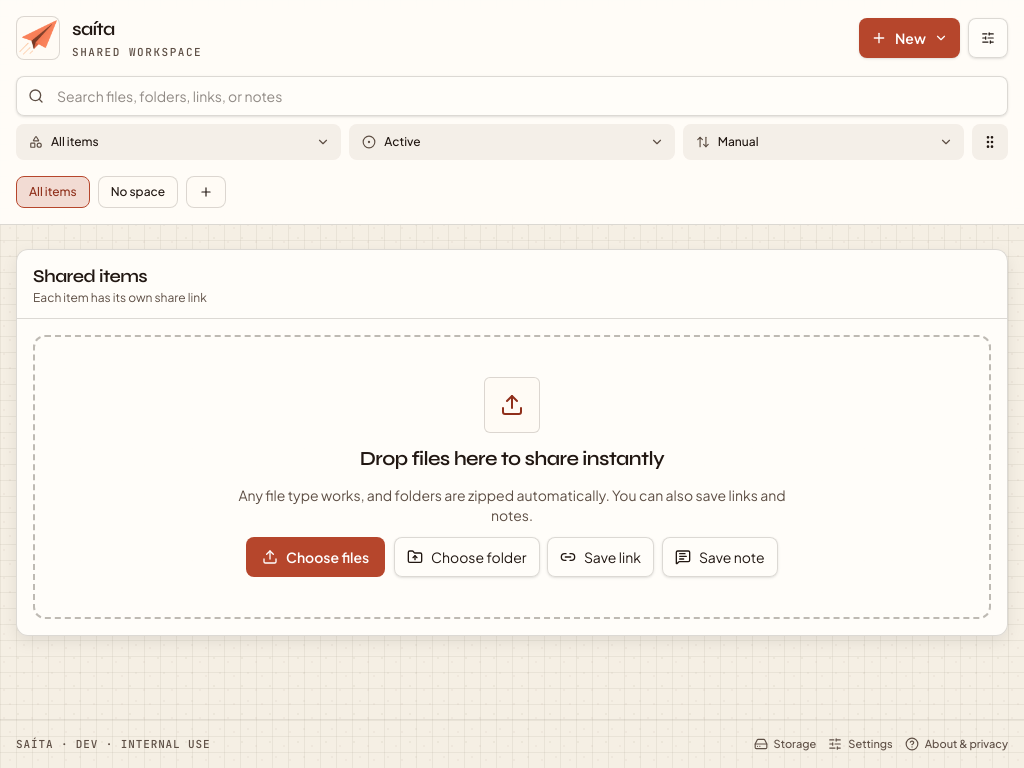
Test: opens and closes the New dropdown
Expected: the text "Shared items" is shown, [33,265,147,287]
Note: Opens on click
Click the button "New" at [910, 38], box [859,18,960,58]
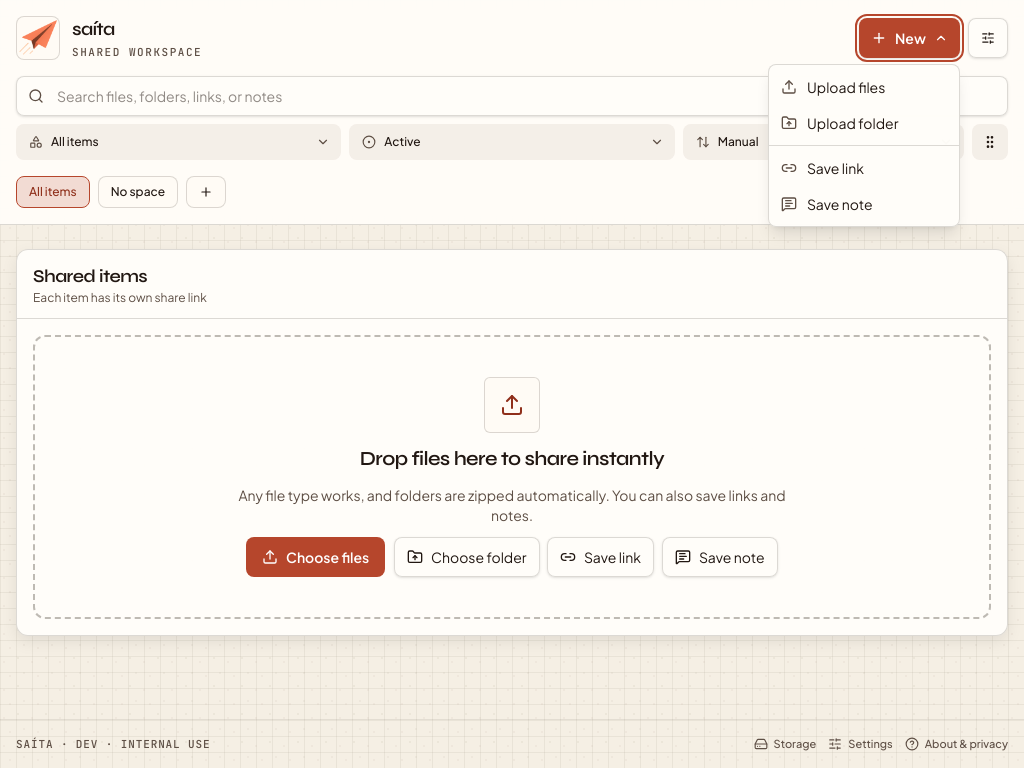
Expected: the button "Upload files" is shown, [769,69,959,105]
Note: Closes on Escape
Press Escape
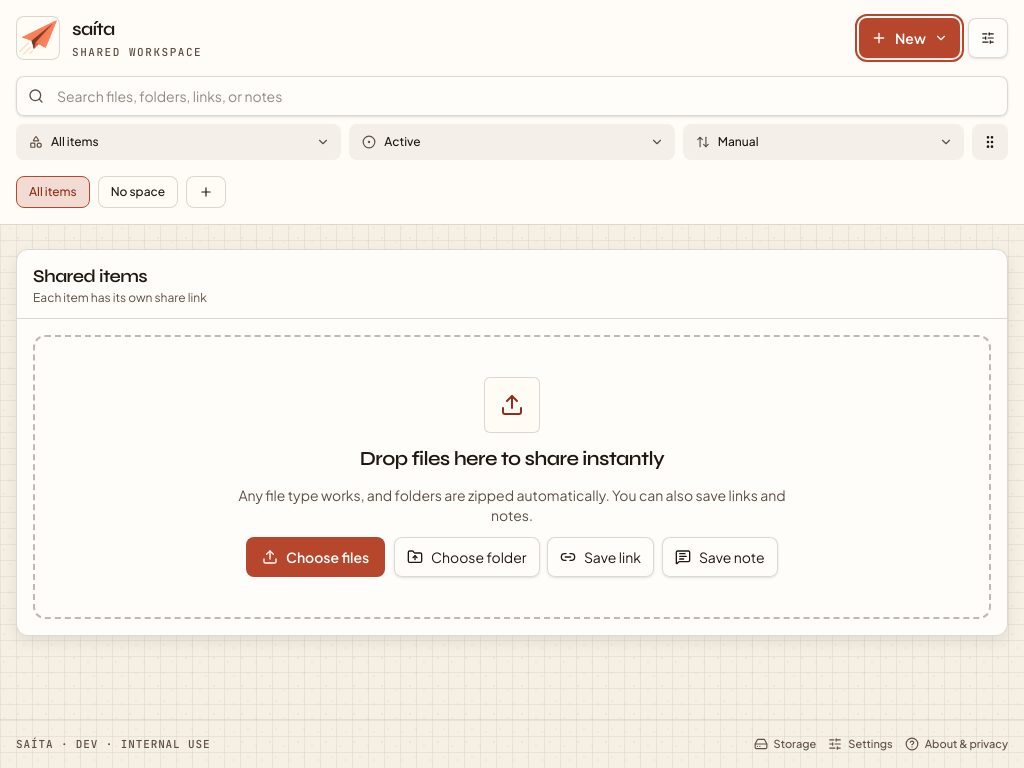
Expected: the button "Upload files" is gone
Note: Opens again, closes on outside click
Click the button "New" at [910, 38], box [859,18,960,58]
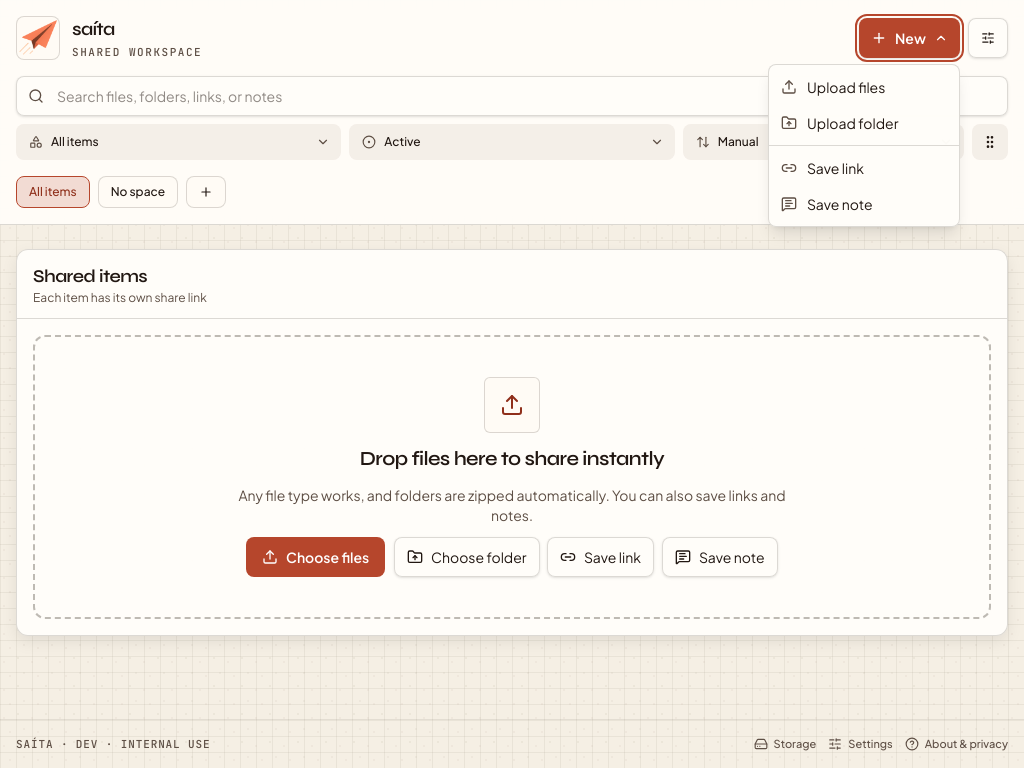
Expected: the button "Upload files" is shown, [769,69,959,105]
Click the element that starts with "saíta" at [512, 384], box [0,0,1023,767]
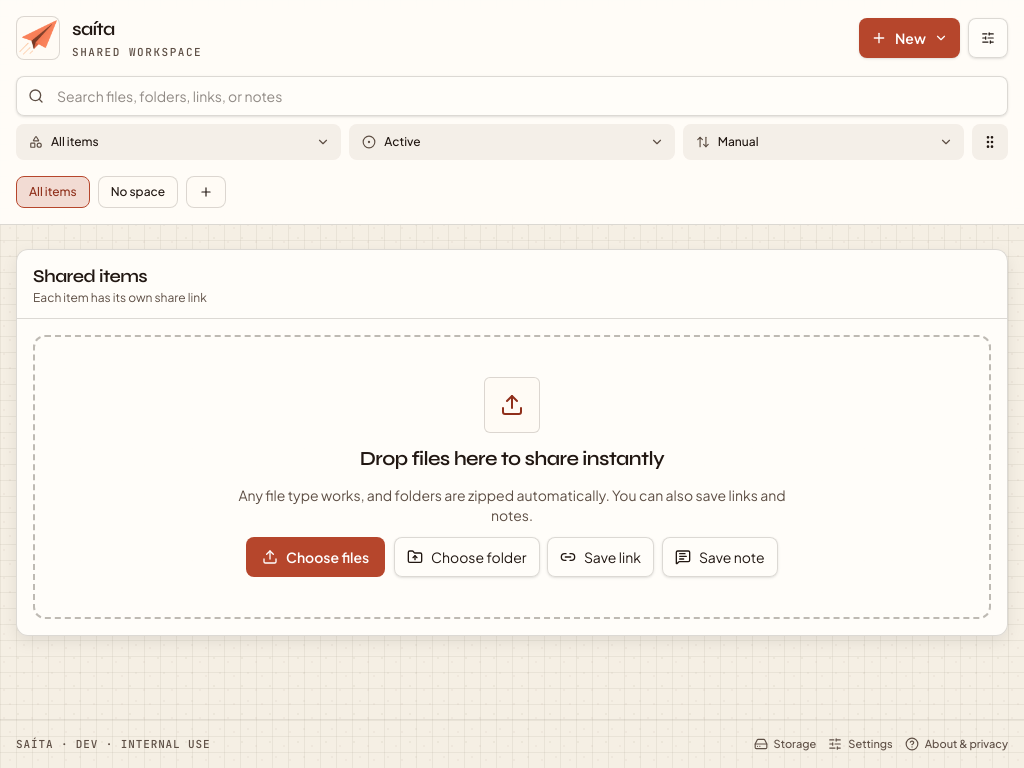
Expected: the button "Upload files" is gone
